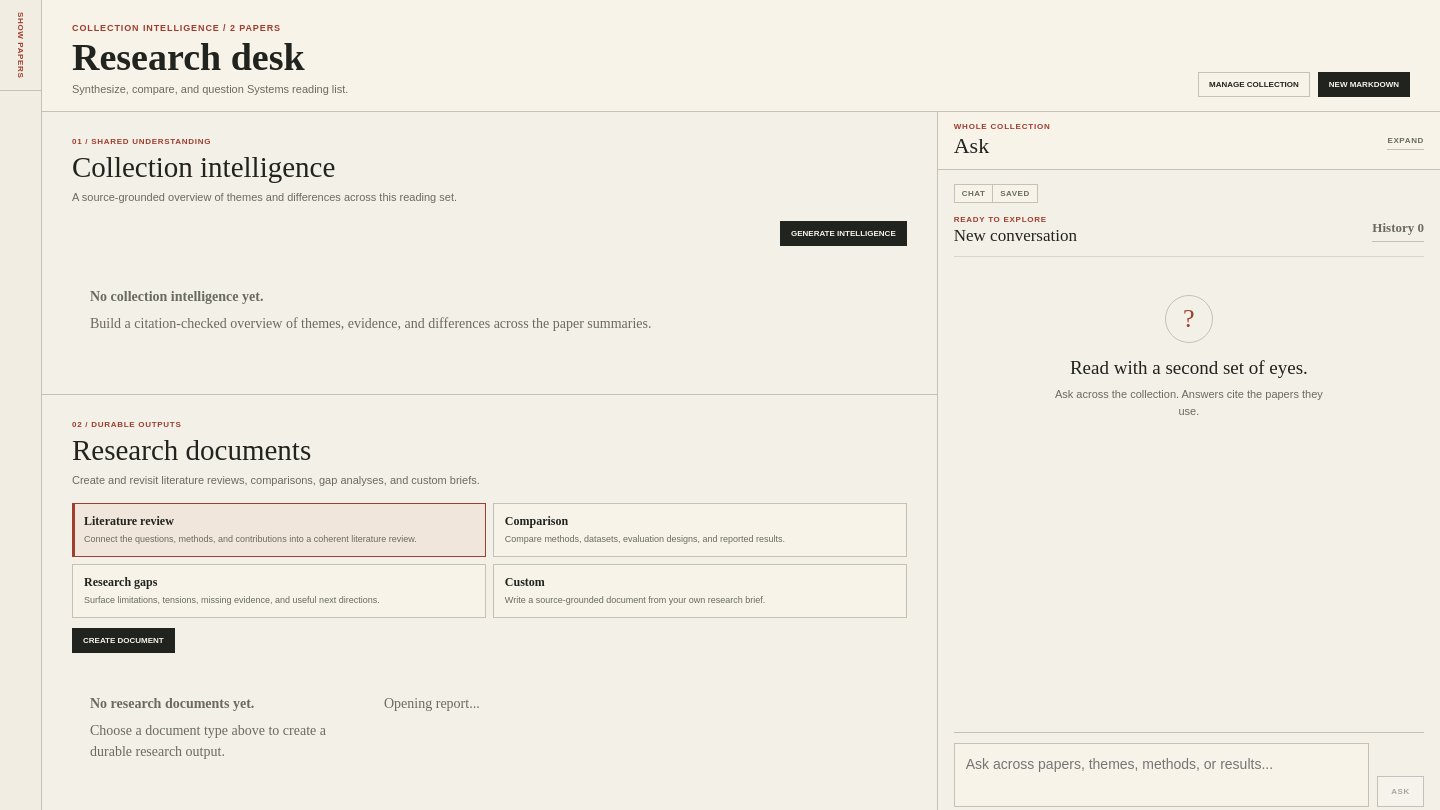
CollectionsPage research desk › expands Ask into the research canvas and returns to intelligence
The image size is (1440, 810).
expect the heading "Collection intelligence" is shown: met, box [72, 151, 335, 183]
Click the button with aria-label "Expand collection Ask".
click(1406, 141)  # box [1387, 132, 1424, 150]
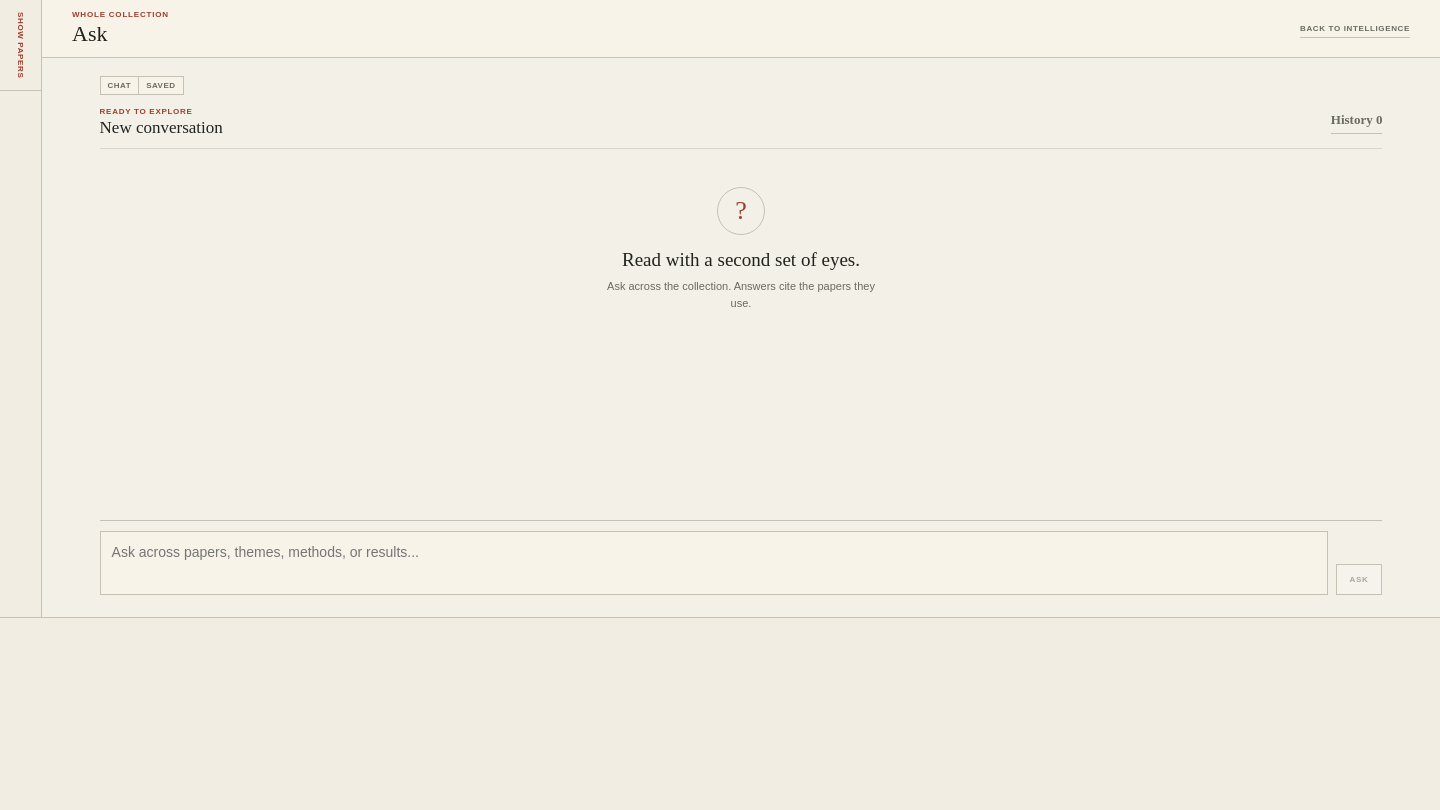
expect the text "Collection intelligence" is gone: met
expect the button with aria-label "Back to collection intelligence" is shown: met
Click the button with aria-label "Back to collection intelligence".
click(1355, 28)  # box [1300, 20, 1410, 38]
(page scrolled)
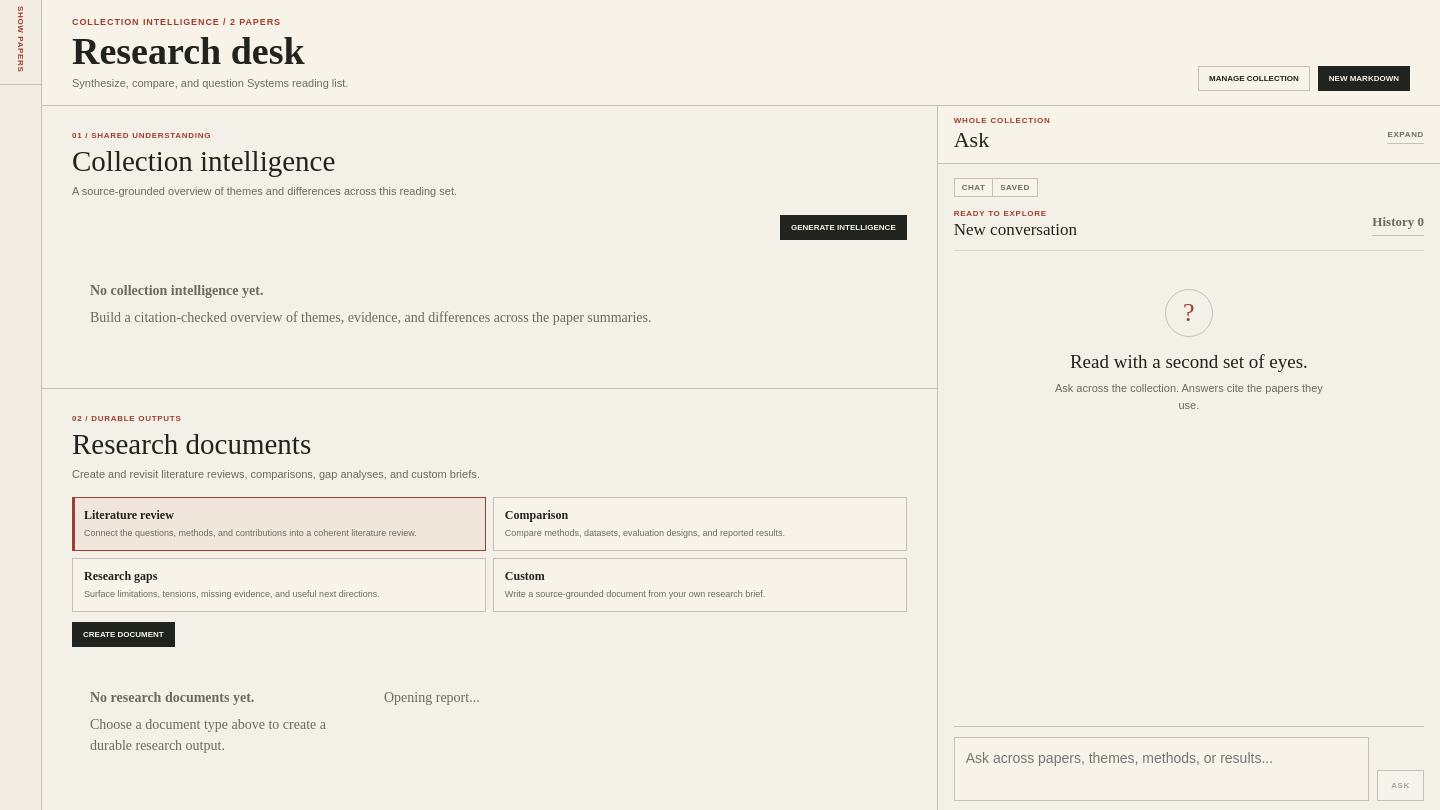
expect the heading "Collection intelligence" is shown: met, box [72, 145, 335, 177]
